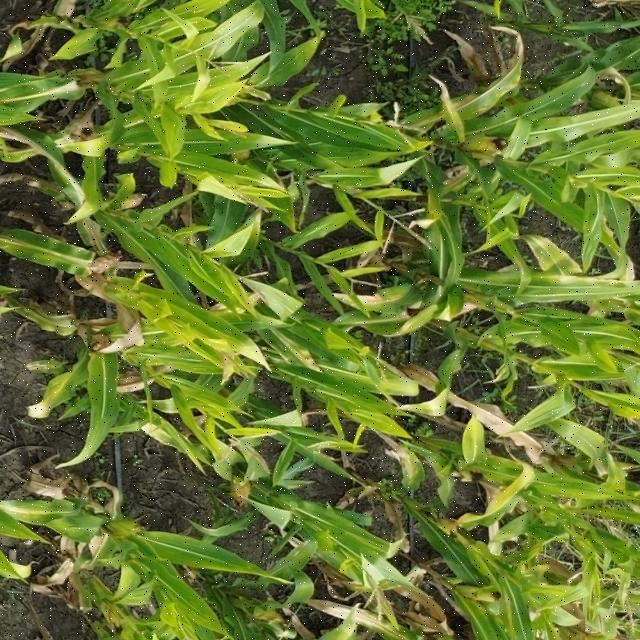northern-leaf-blight: (3, 123, 122, 272), (425, 49, 530, 154), (518, 234, 632, 320), (314, 269, 422, 337), (246, 319, 325, 386)
southern-leaf-blight: (152, 562, 235, 640), (443, 546, 505, 586)
